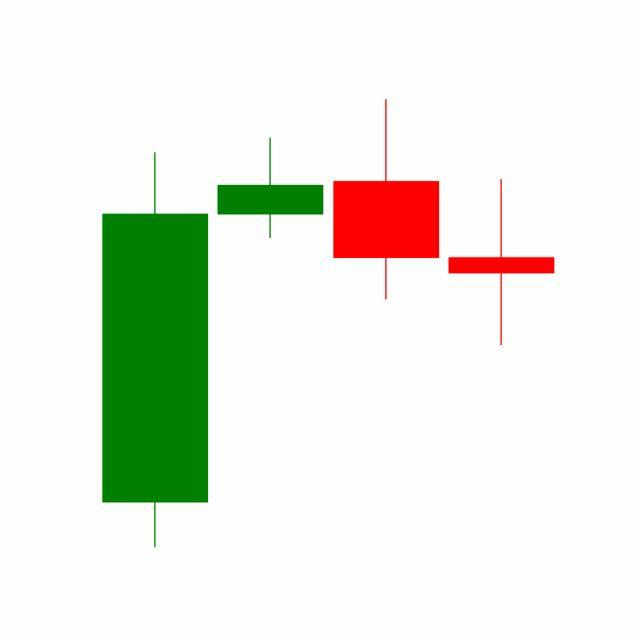Three Outside Up-Down: (211, 100, 555, 351)
